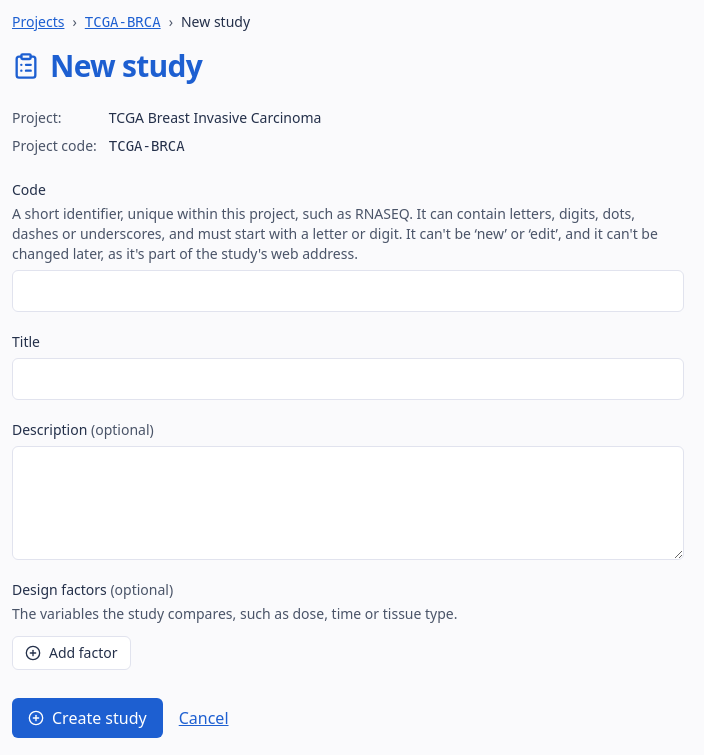
Test: NewStudyPage › shows that the study is being created
Step 1. Type "RNASEQ" into the field labelled "Code" → (348, 291), box [12, 270, 684, 312]
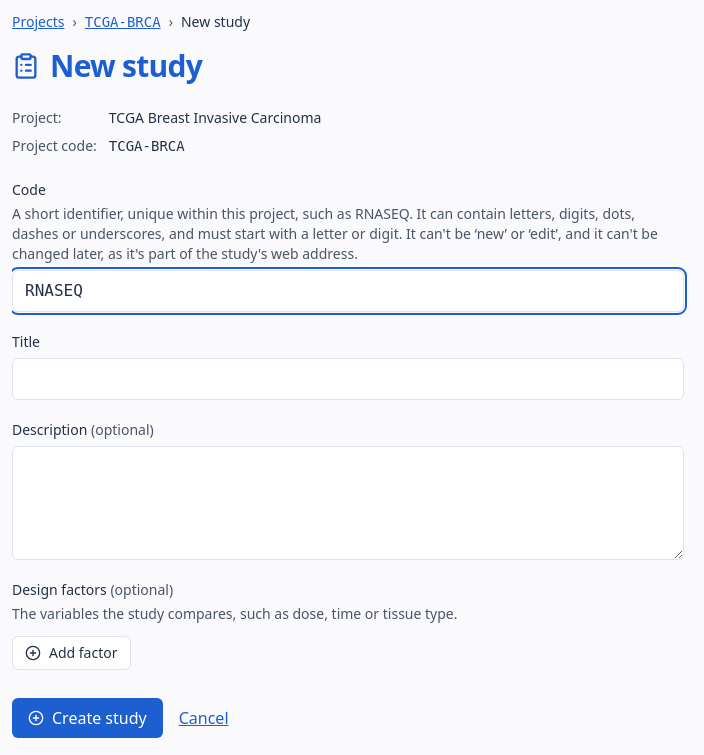
Step 2. Type "RNA-seq of primary tumours" into the field labelled "Title" → (348, 379), box [12, 358, 684, 400]
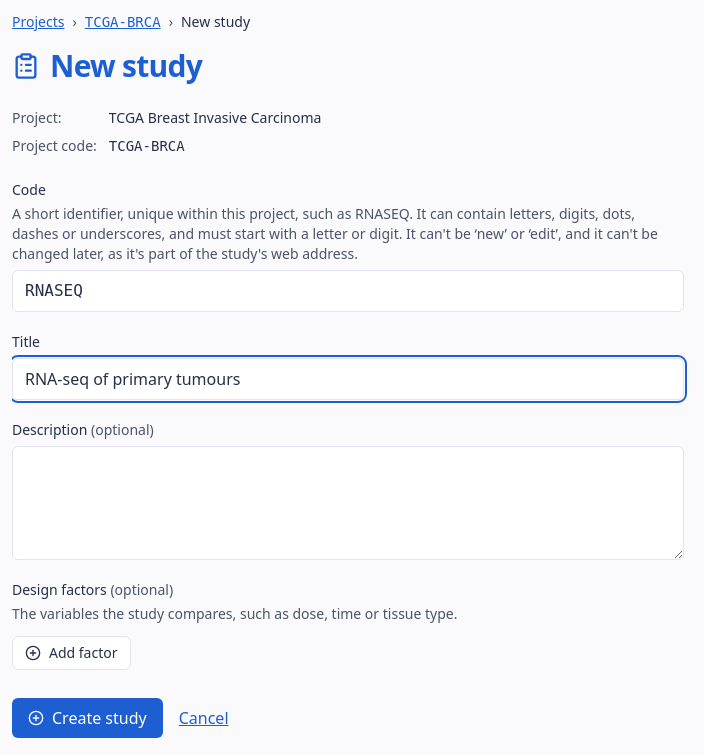
Step 3. Click the button "Create study" → (87, 718), box [12, 698, 163, 738]
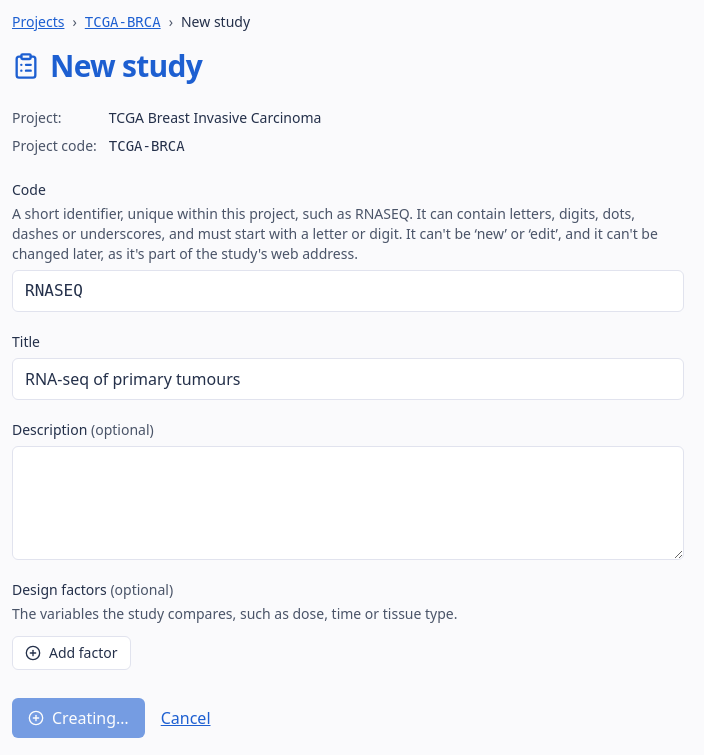
Expected: the button "Creating…" is disabled, [12, 698, 145, 738]
